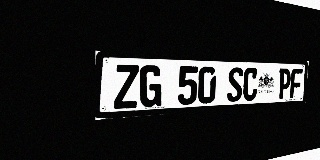0: (197, 66, 216, 104)
5: (178, 66, 198, 105)
C: (242, 67, 258, 101)
F: (290, 69, 303, 98)
G: (139, 65, 162, 108)
P: (277, 68, 291, 99)
S: (227, 67, 244, 102)
Z: (114, 64, 139, 109)
